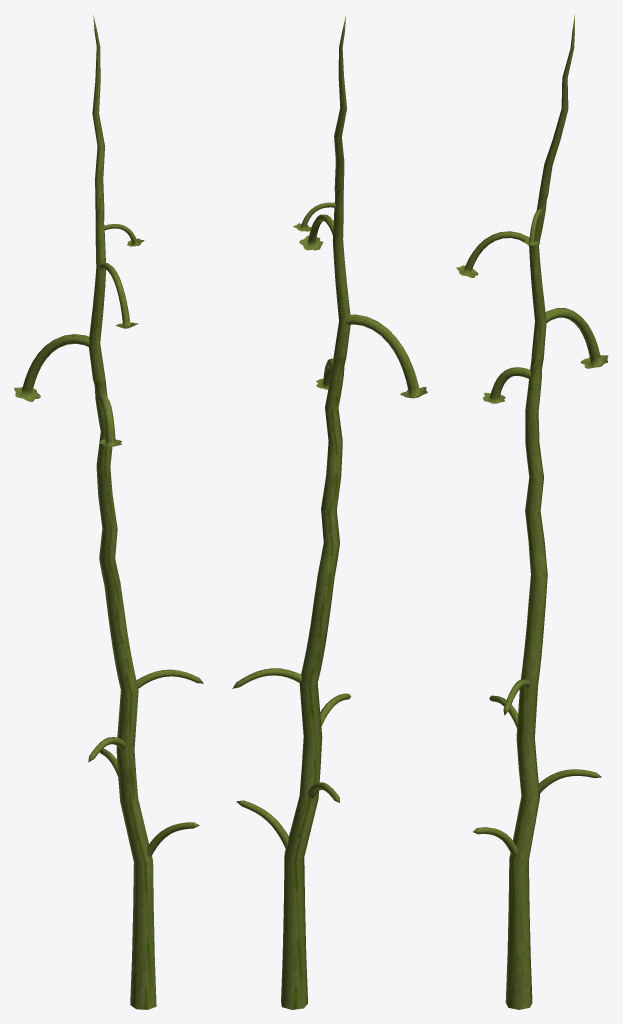
File: VG07_3_stem.dae
3 views of the same model, side by side, from view 1: azimuth 30°, elevation 25°; view 2: azimuth 210°, elevation 25°; view 3: azimuth 270°, elevation 25° (orthographic). The views are drawn at different scales.
Parts seen in each view (by area): view 1: VG07_007; view 2: VG07_007; view 3: VG07_007.
Boxes of the visible parts, x1,y1,x2,y2 form: VG07_007: [14, 15, 203, 1009]; VG07_007: [232, 16, 427, 1009]; VG07_007: [456, 14, 608, 1009].
Bounding box in the file's own units: 4.78 × 4.36 × 30.89.
